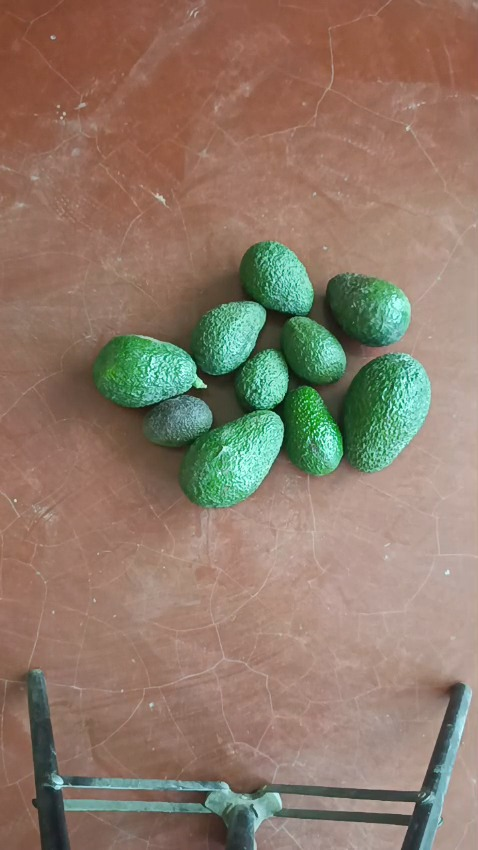Primera: (340, 352, 431, 471), (178, 410, 284, 506), (91, 334, 201, 408)
Segunda: (325, 272, 411, 346), (189, 301, 267, 375), (280, 385, 344, 475), (239, 241, 315, 316)
Tercera: (280, 316, 347, 385), (142, 395, 214, 448), (234, 347, 291, 411)
